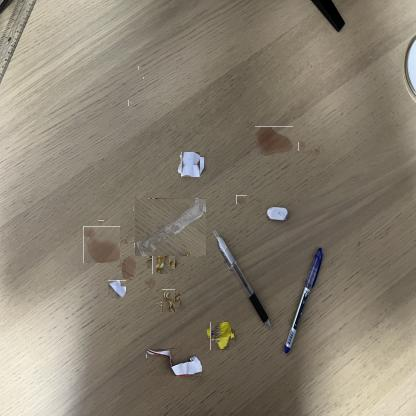dirty: (134, 198, 206, 256), (146, 348, 202, 376), (209, 324, 233, 349), (180, 153, 202, 176), (150, 249, 172, 272), (159, 291, 178, 310), (108, 280, 126, 297)
liquid: (83, 226, 120, 263), (255, 126, 293, 155), (122, 255, 136, 279), (236, 194, 246, 205), (146, 278, 156, 288), (298, 141, 305, 151), (312, 148, 320, 156), (126, 238, 130, 244), (99, 220, 104, 224)
mark: (128, 100, 133, 106), (64, 32, 68, 36), (138, 66, 141, 70), (144, 77, 146, 80)
